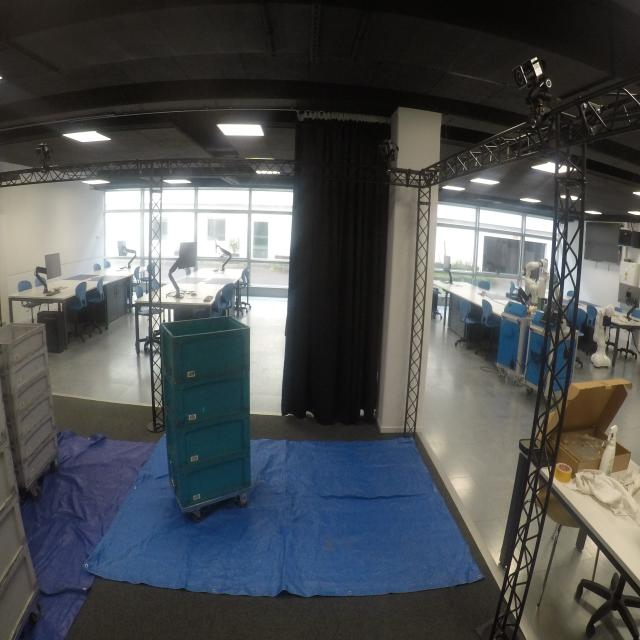BoxB4: (160, 323, 251, 377), (168, 457, 258, 506), (160, 376, 255, 420), (164, 418, 256, 459)
